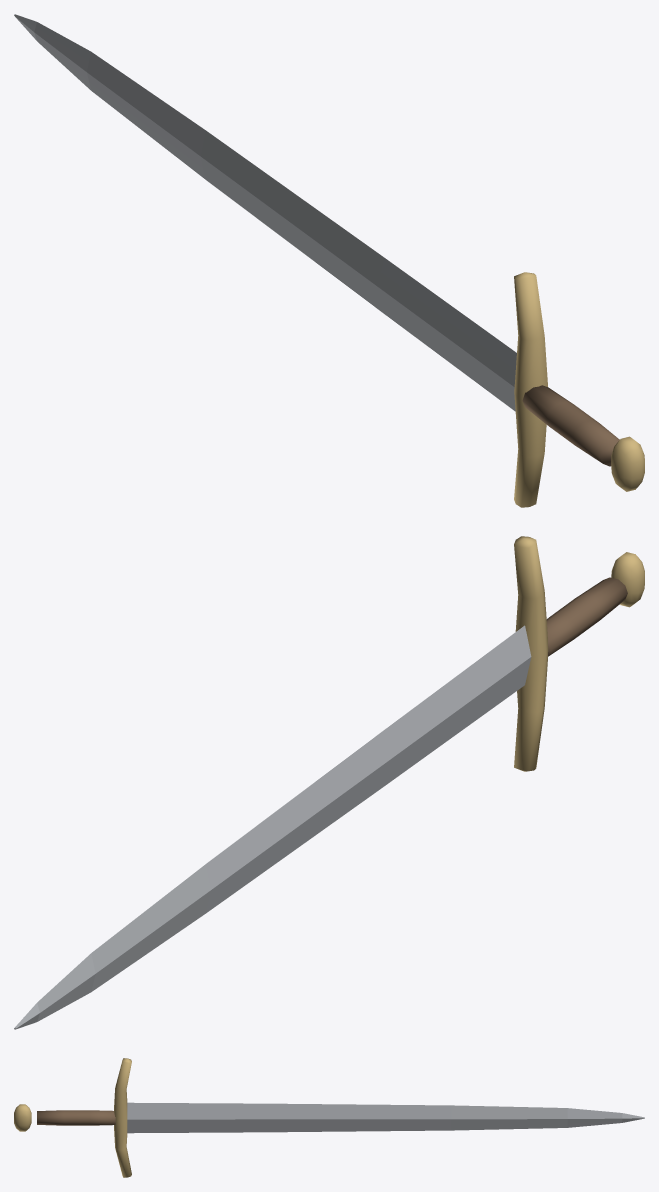
File: sword.glb
3 views of the same model, one above another, from view 1: azimuth 30°, elevation 25°; view 2: azimuth 150°, elevation 25°; view 3: azimuth 270°, elevation 25° (orthographic). The views are drawn at different scales.
Visible parts, largest first — view 1: sword; view 2: sword; view 3: sword.
Boxes of the visible parts, x1=… form: sword: x1=14, y1=14, x2=644, y2=507; sword: x1=14, y1=536, x2=644, y2=1029; sword: x1=14, y1=1058, x2=644, y2=1177.
Bounding box in the file's own units: 0.028 × 0.2019 × 0.9776.
